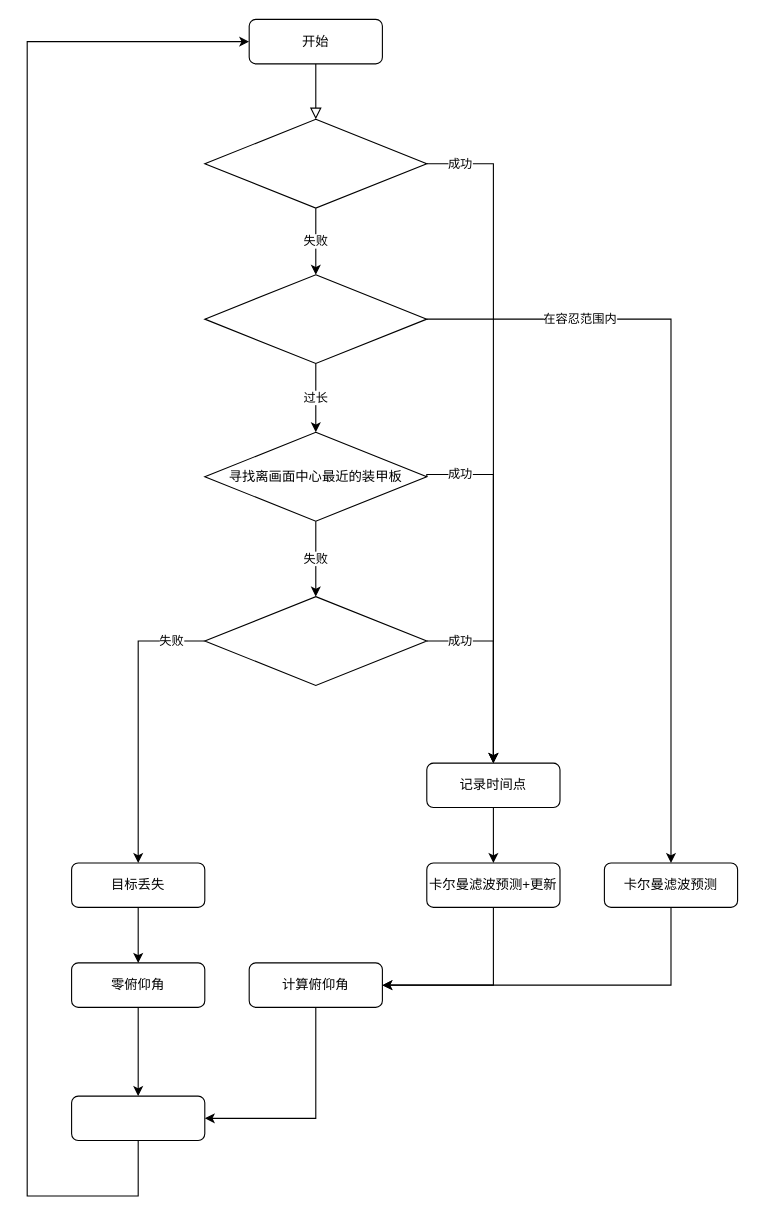
Some shapes in this 757 by 1224 pixel diagram are drawn without their labels. Here are the shapes that lost their labels. From the top down, the centre of each, then its label:
At (x=315, y=163): "寻找上一次的装甲板".
At (x=315, y=319): "距离上次找到目标时间间隔".
At (x=315, y=640): "寻找上次目标的 离画面中心最近的装甲板".
At (x=137, y=1118): "发送信号".
